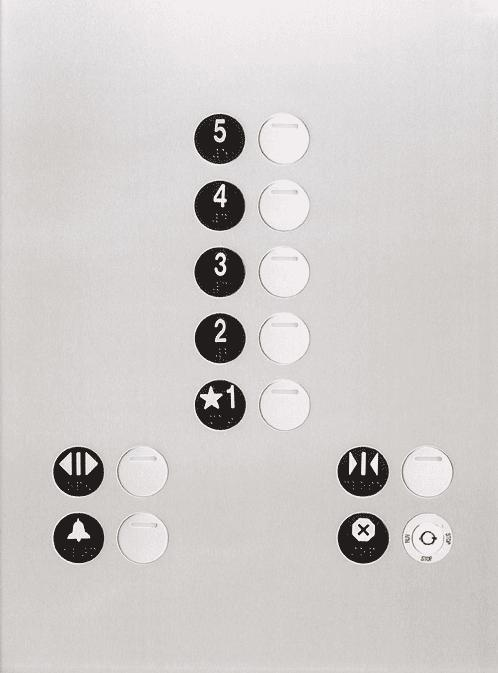2: (194, 312, 247, 365)
3: (194, 246, 246, 296)
4: (193, 179, 246, 230)
5: (194, 112, 246, 164)
alarm: (53, 512, 105, 564)
bt_keyhole: (402, 511, 454, 565)
close: (337, 446, 390, 497)
empty: (257, 312, 311, 366), (258, 179, 312, 232), (116, 512, 169, 565), (258, 244, 311, 297), (257, 113, 311, 165), (115, 446, 171, 496), (402, 445, 454, 498), (258, 379, 312, 430)
open: (52, 447, 105, 497)
s1: (195, 379, 246, 430)
stop: (335, 510, 390, 564)
